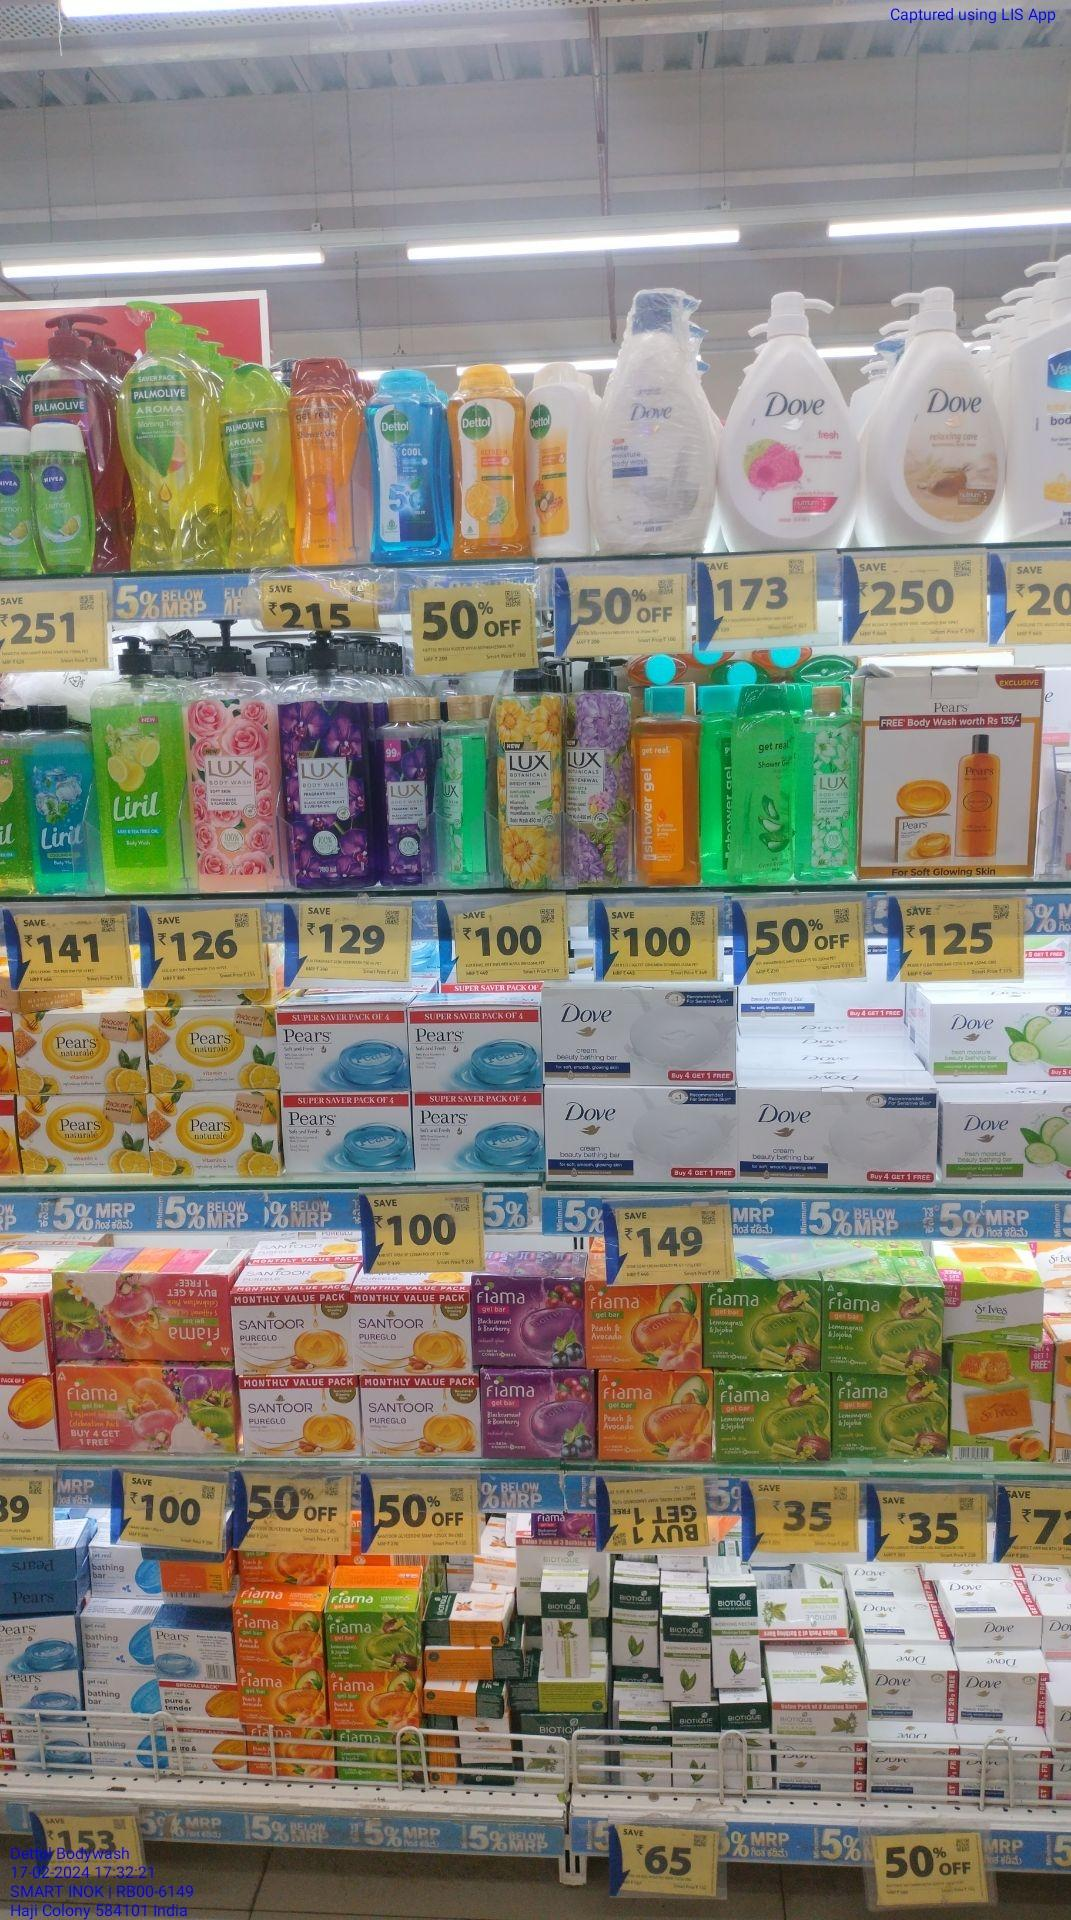Dettol_Bodywash_Cool: (363, 364, 451, 568)
Dettol_Bodywash_Refresh: (452, 361, 534, 559)
Dettol_Nourish_Body_Wash_250ML: (535, 359, 582, 554)
Get_Real_Shower_Gel_Moisturising_Glycerin_300ML: (291, 351, 361, 566)
Liril_Cooling_Mint_Body_Wash_250ML: (28, 700, 99, 894)
Lux_Black_Orchid_Scent_and_Juniper_Oil_Body_Wash_245ML: (376, 694, 437, 890)
Lux_Body_Wash_Skin_Detox_Freesia_Scent_and_Alove_Vera_245ML: (793, 683, 856, 881), (441, 690, 488, 885)
Palmolive_Aroma_Morning_Tonic_Shower_Gel_250ML: (218, 359, 290, 563)
